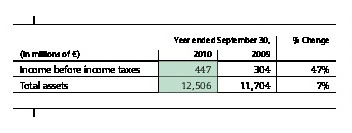table: (0, 0, 352, 133)
